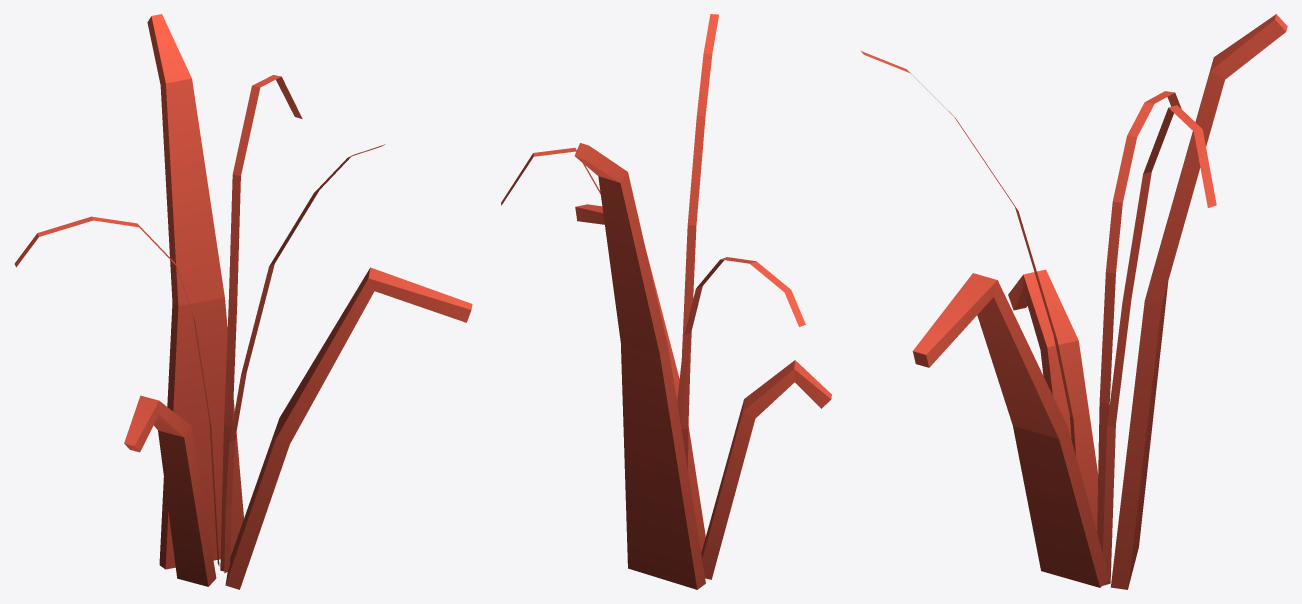
Rendered from RedGrass1.fbx.
3 renders of one model, left to right at view 1: azimuth 30°, elevation 25°; view 2: azimuth 150°, elevation 25°; view 3: azimuth 270°, elevation 25°, orthographic. The views are drawn at different scales.
Parts seen in each view (by area): view 1: RedGrass1; view 2: RedGrass1; view 3: RedGrass1.
Part boxes in pixels (x1=…): RedGrass1: x1=14, y1=14, x2=472, y2=589; RedGrass1: x1=501, y1=14, x2=831, y2=589; RedGrass1: x1=861, y1=14, x2=1287, y2=589.
Bounding box in the file's own units: 132 × 182 × 123.
